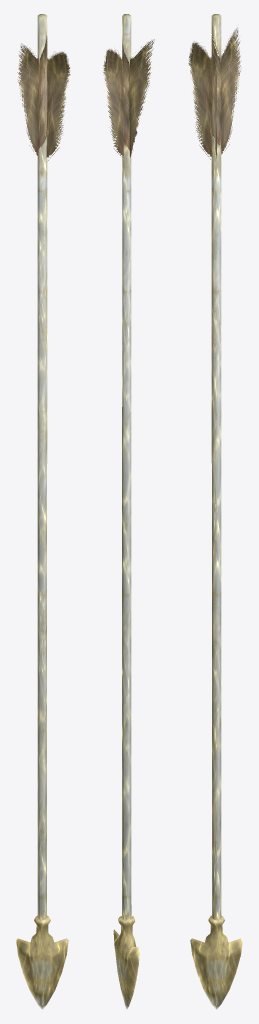
Rendered from Arrow.gltf.
The picture shows the model from 3 angles, left to right: view 1: azimuth 90°, elevation 25°; view 2: azimuth 210°, elevation 25°; view 3: azimuth 270°, elevation 25°; orthographic projection.
Visible parts, largest first — view 1: Sparrow.002; view 2: Sparrow.002; view 3: Sparrow.002.
Boxes of the visible parts, left/top/right/bottom form: Sparrow.002: left=16, top=14, right=70, bottom=1009; Sparrow.002: left=103, top=14, right=154, bottom=1009; Sparrow.002: left=188, top=14, right=242, bottom=1009.
Bounding box in the file's own units: 0.0364 × 0.7901 × 0.0424.
1 material, 1 textured.
